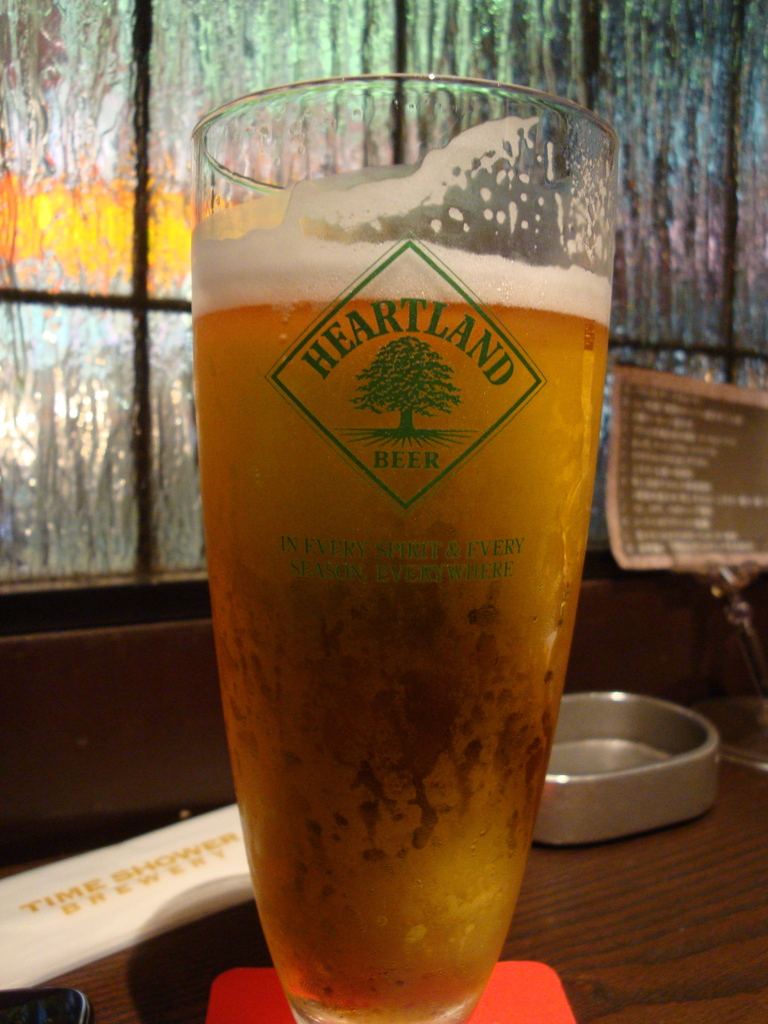Beer: (181, 249, 617, 1023)
